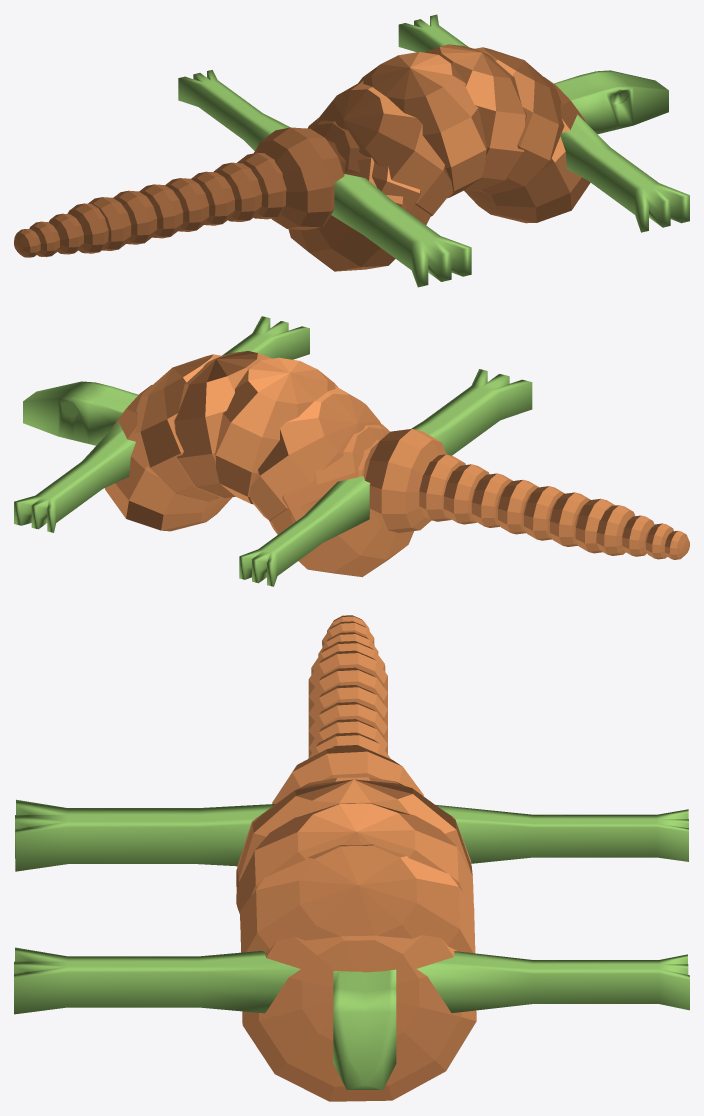
The model's file is pet-piffard.glb.
The picture shows the model from 3 angles, top to bottom: view 1: azimuth 30°, elevation 25°; view 2: azimuth 150°, elevation 25°; view 3: azimuth 270°, elevation 25°; orthographic projection. The views are drawn at different scales.
Bounding box in the file's own units: 10.19 × 2.7 × 6.75.
